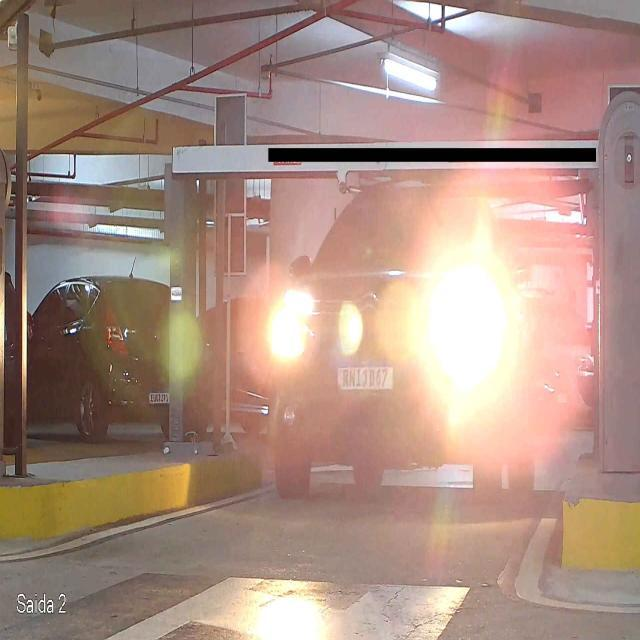mercosul_plate: (334, 360, 396, 393)
